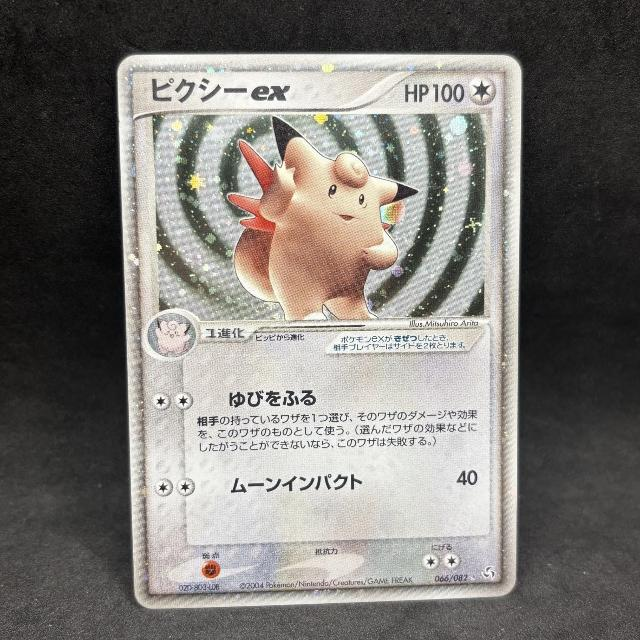Card: (111, 46, 526, 614)
Name: (146, 74, 296, 111)
